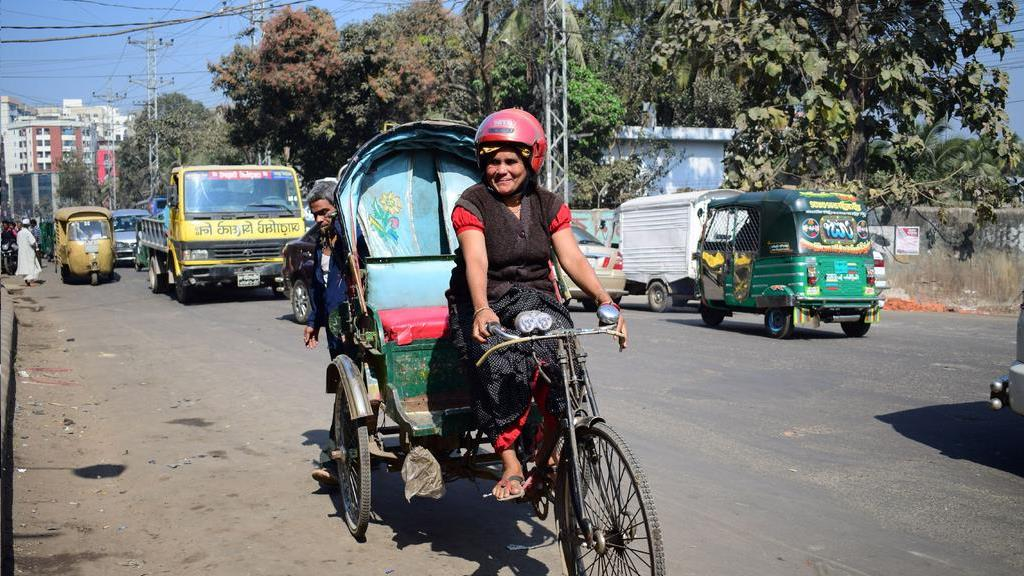Rickshaw: (319, 109, 644, 568)
